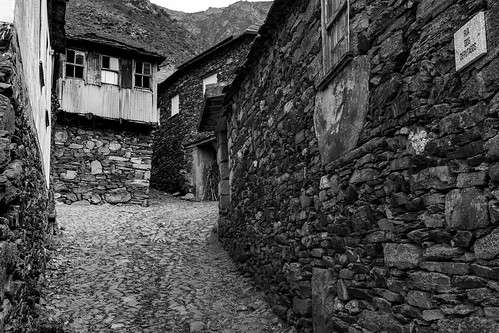building: (233, 1, 499, 311), (60, 27, 173, 201), (164, 34, 258, 204)
